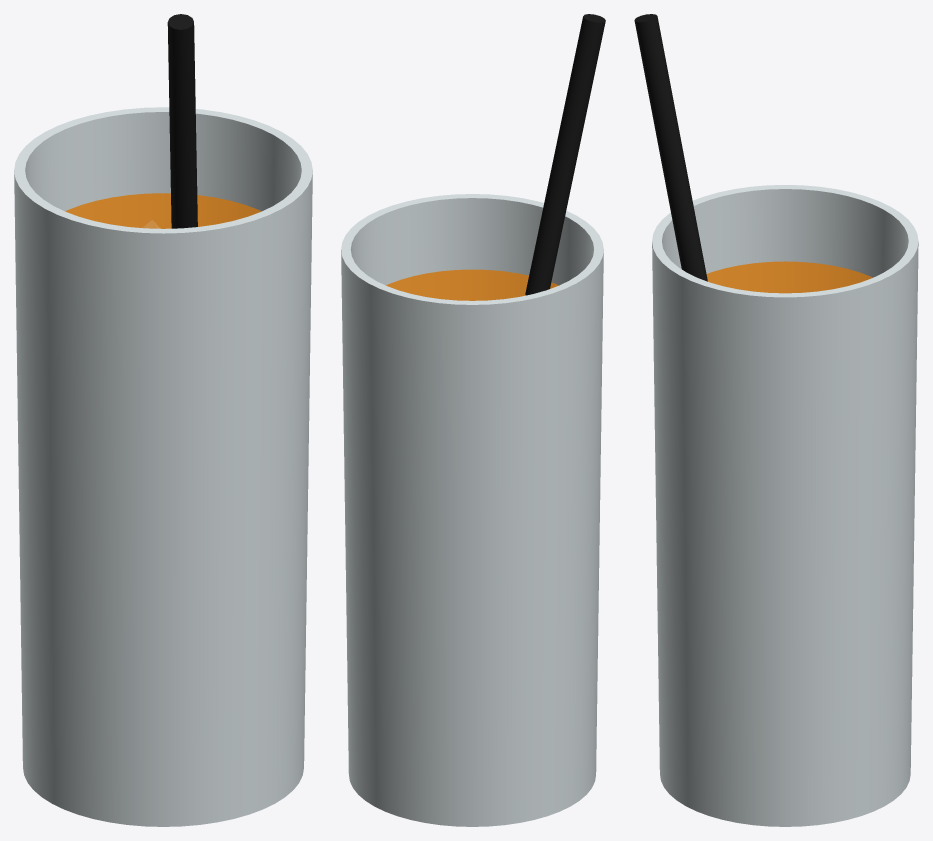
File: long_drink-laranja.glb
The picture shows the model from 3 angles, left to right: view 1: azimuth 30°, elevation 25°; view 2: azimuth 150°, elevation 25°; view 3: azimuth 270°, elevation 25°; orthographic projection. The views are drawn at different scales.
Visible parts, largest first — view 1: long_drink-laranja; view 2: long_drink-laranja; view 3: long_drink-laranja.
Boxes of the visible parts, x1,y1,x2,y2 form: long_drink-laranja: (14,14,312,826); long_drink-laranja: (341,14,605,826); long_drink-laranja: (634,14,918,826).
Bounding box in the file's own units: 0.068 × 0.206 × 0.0725.
